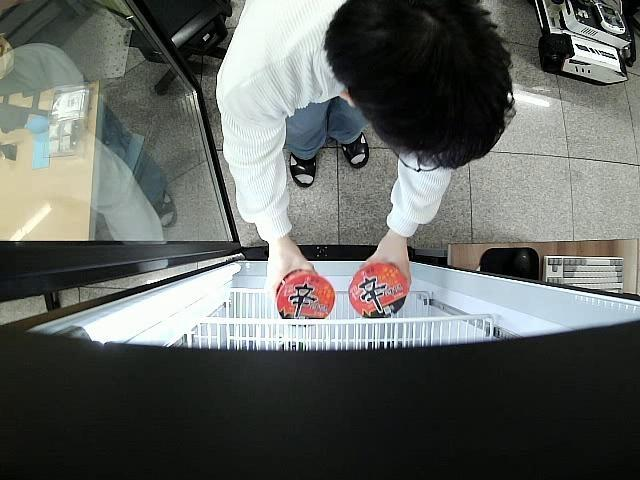01_ShinRamen_L: (350, 264, 408, 318), (276, 271, 335, 320)
